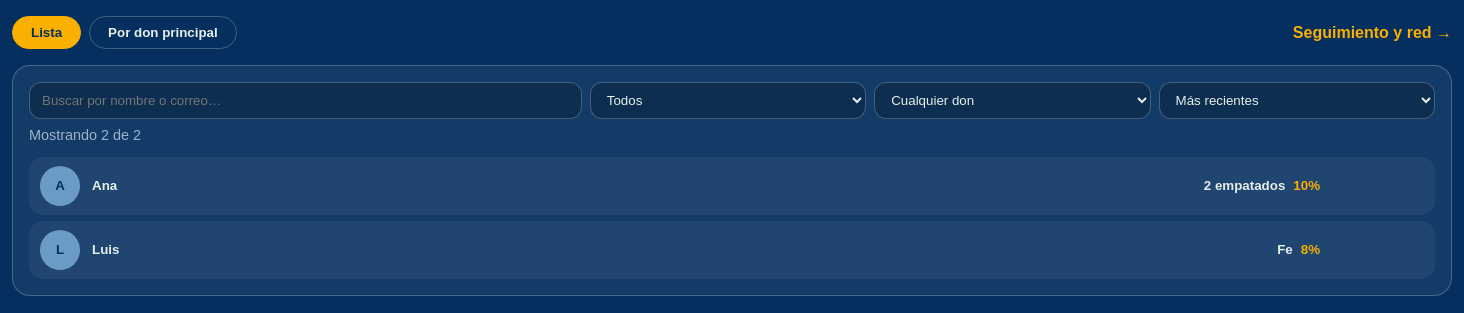
Scenario: AdminUsers › agrupa por don principal cuando hay empate
This screenshot has width=1464, height=313.
Click the tab "Por don principal".
click(163, 32)  # box [89,16,237,49]
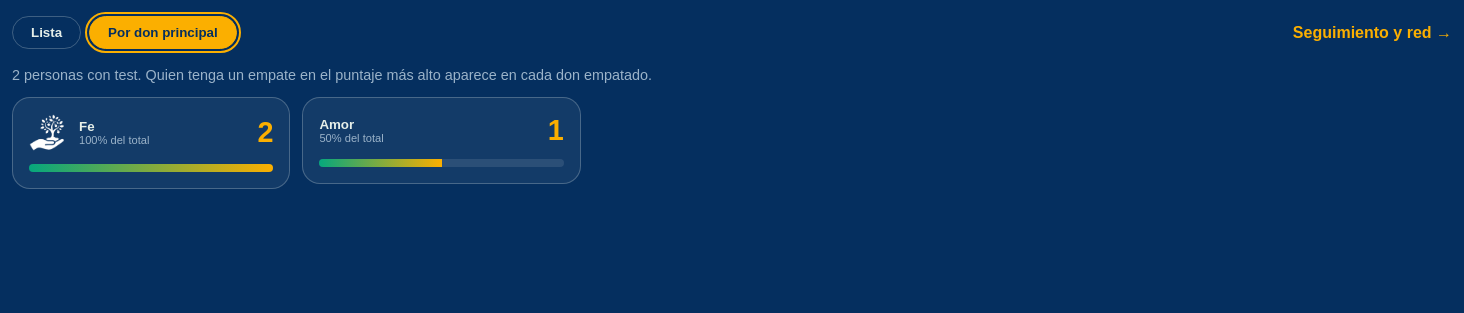
expect the button "Fe 100% del total 2" is shown: met, box [29,114,273,152]
expect the button "Amor 50% del total 1" is shown: met, box [319,114,564,147]
